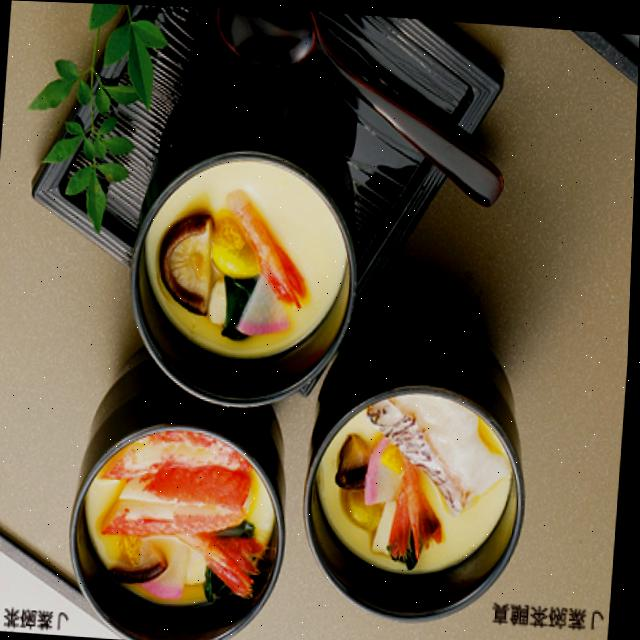鸡蛋料理: (93, 37, 383, 426)
